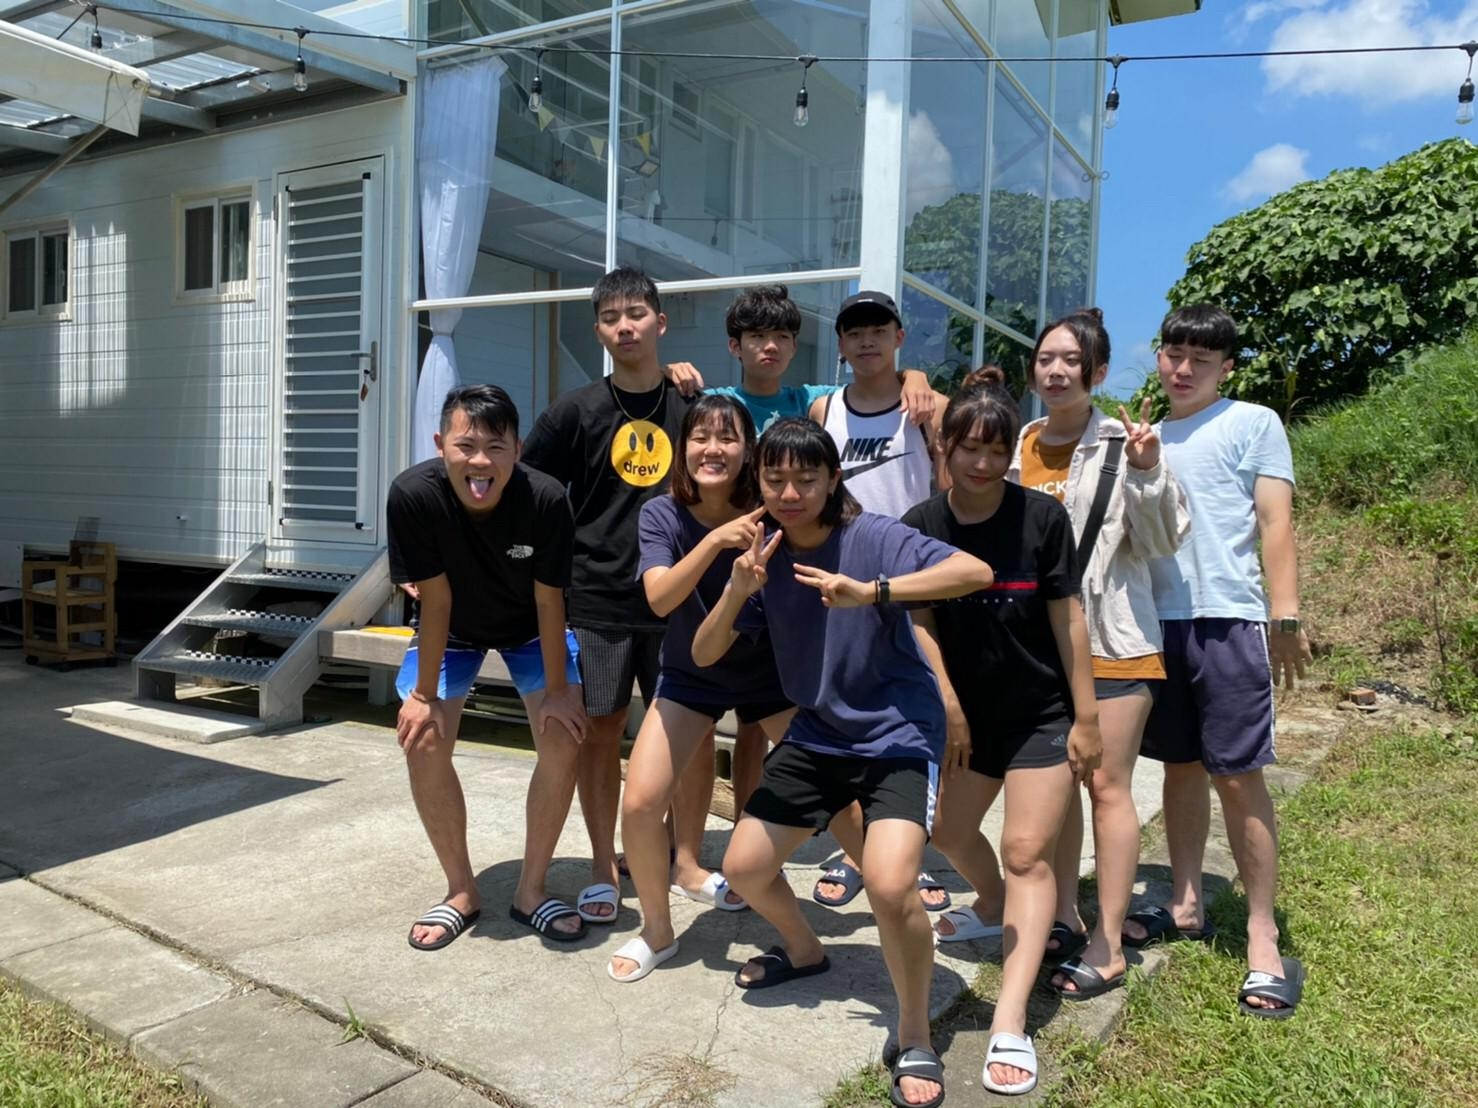people: (746, 421, 946, 1096), (1138, 300, 1308, 1013), (940, 382, 1067, 1084), (425, 386, 569, 940), (1013, 319, 1125, 992), (711, 275, 833, 877), (596, 275, 702, 921), (815, 294, 927, 888), (671, 398, 761, 944)
